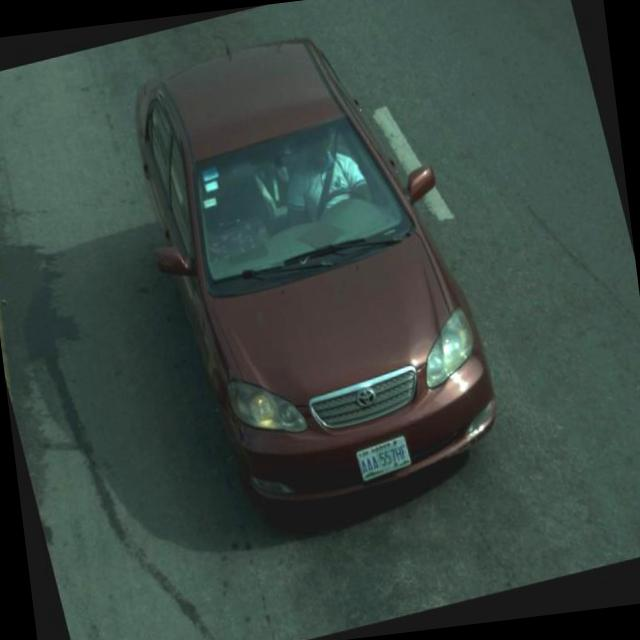person_with_seatbelt: (278, 120, 371, 235)
